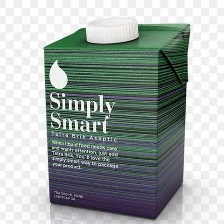carton: (41, 14, 191, 222)
